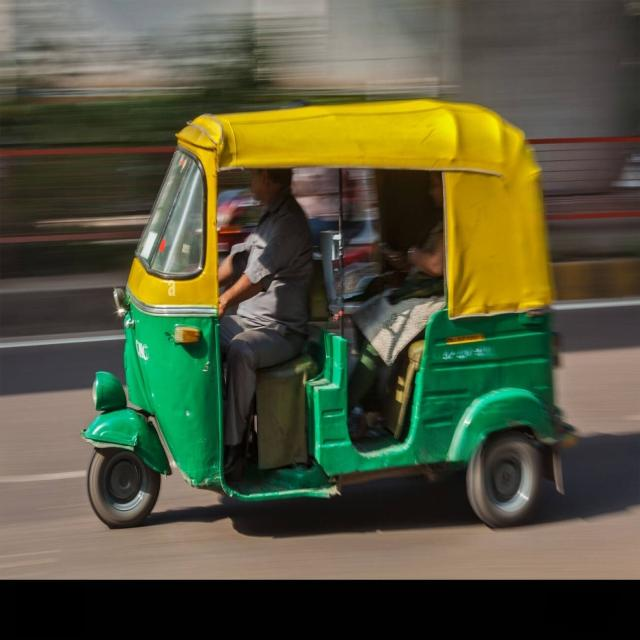autorickshaw: (82, 100, 578, 527)
